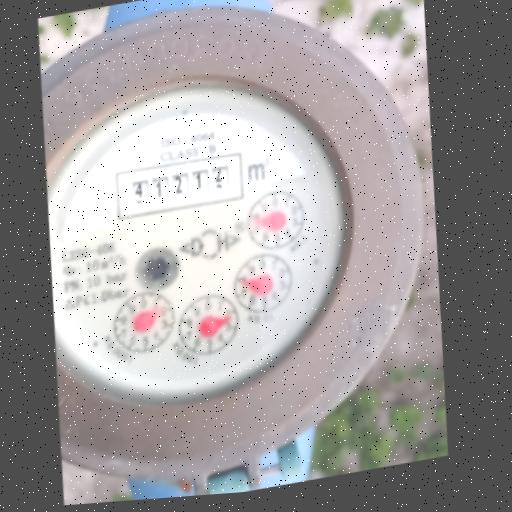1: (152, 177, 171, 201), (193, 170, 209, 193)
2: (172, 173, 190, 197), (213, 166, 230, 189)
4: (131, 181, 150, 206)
border_water_meter_number: (112, 150, 246, 221)
